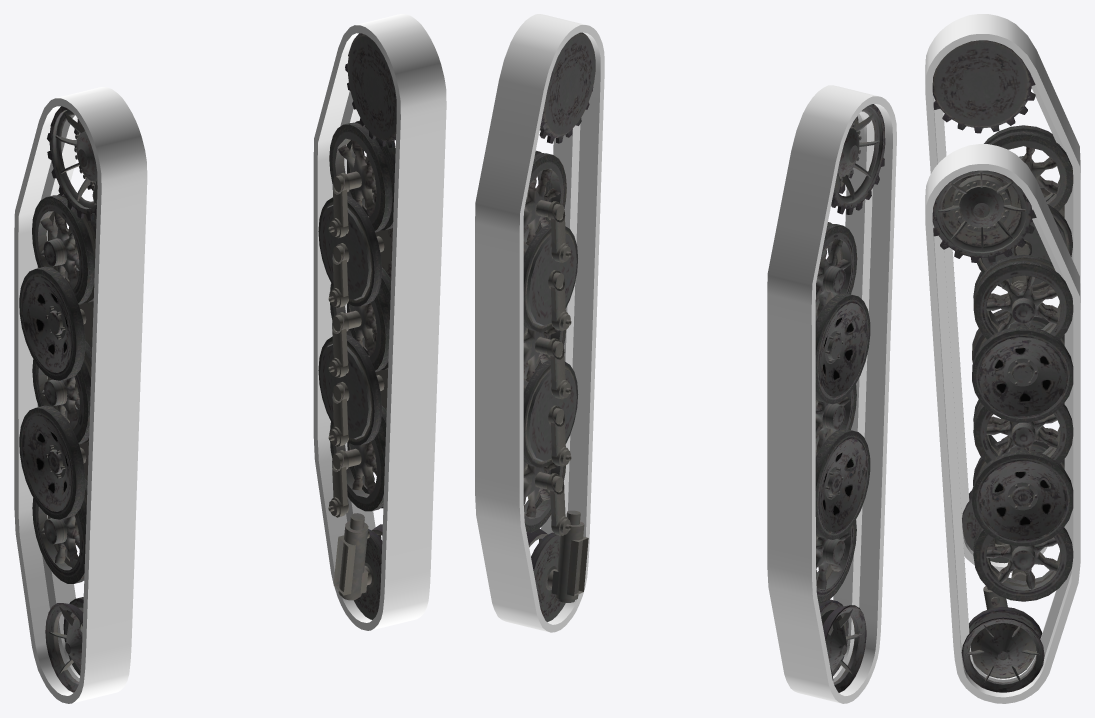
File: Chassis.glb
3 renders of one model, left to right at view 1: azimuth 30°, elevation 25°; view 2: azimuth 150°, elevation 25°; view 3: azimuth 270°, elevation 25°, orthographic. The views are drawn at different scales.
Visible parts, largest first — view 1: set_22_group_0, set_14_group_0, set_6_group_0, set_5_group_0, set_0_group_0, set_26_group_0, set_18_group_0, set_16_group_0, set_24_group_0, set_21_group_0, set_13_group_0, set_2_group_0 (+16 smaller); view 2: set_22_group_0, set_14_group_0, set_6_group_0, set_5_group_0, set_21_group_0, set_25_group_0, set_17_group_0, set_19_group_0, set_27_group_0, set_13_group_0, set_0_group_0, set_2_group_0 (+16 smaller); view 3: set_0_group_0, set_2_group_0, set_5_group_0, set_8_group_0, set_14_group_0, set_4_group_0, set_3_group_0, set_22_group_0, set_1_group_0, set_9_group_0, set_13_group_0, set_18_group_0 (+14 smaller).
Boxes of the visible parts, x1,y1,x2,y2 form: set_22_group_0: [25, 87, 147, 703]; set_14_group_0: [324, 14, 446, 630]; set_6_group_0: [19, 266, 93, 519]; set_5_group_0: [328, 33, 396, 600]; set_0_group_0: [318, 334, 387, 511]; set_26_group_0: [89, 281, 143, 428]; set_18_group_0: [388, 208, 442, 355]; set_16_group_0: [384, 345, 438, 490]; set_24_group_0: [85, 418, 139, 563]; set_21_group_0: [24, 118, 134, 655]; set_13_group_0: [324, 48, 433, 582]; set_2_group_0: [318, 194, 392, 506]; set_22_group_0: [777, 85, 896, 703]; set_14_group_0: [485, 14, 604, 632]; set_6_group_0: [815, 293, 870, 539]; set_5_group_0: [539, 32, 595, 602]; set_21_group_0: [777, 151, 884, 619]; set_25_group_0: [767, 498, 825, 648]; set_17_group_0: [475, 427, 533, 577]; set_19_group_0: [475, 223, 523, 369]; set_27_group_0: [767, 294, 815, 441]; set_13_group_0: [485, 79, 592, 546]; set_0_group_0: [523, 359, 578, 532]; set_2_group_0: [523, 223, 577, 526]; set_0_group_0: [972, 438, 1073, 601]; set_2_group_0: [972, 314, 1073, 575]; set_5_group_0: [932, 170, 1036, 609]; set_8_group_0: [932, 40, 1035, 133]; set_14_group_0: [925, 144, 1061, 703]; set_4_group_0: [961, 284, 1044, 692]; set_3_group_0: [973, 254, 1073, 340]; set_22_group_0: [925, 14, 1047, 572]; set_1_group_0: [973, 402, 1073, 464]; set_9_group_0: [984, 125, 1073, 211]; set_13_group_0: [948, 181, 1062, 646]; set_18_group_0: [931, 305, 955, 439].
Bounding box in the file's own units: 2.27 × 3.8 × 0.9919.
28 materials, 12 textured.
